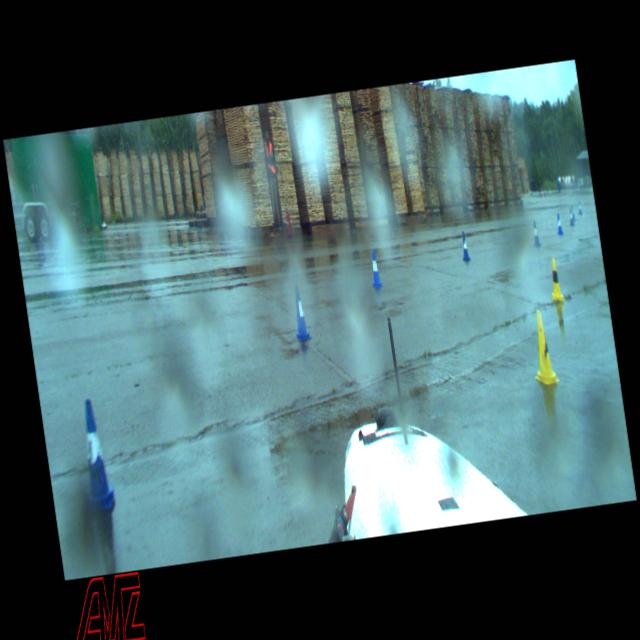blue_cone: (74, 398, 118, 510), (288, 286, 312, 340), (368, 248, 383, 288), (458, 231, 471, 261), (531, 222, 540, 246), (556, 212, 564, 235), (570, 204, 576, 222), (568, 209, 574, 225), (578, 202, 582, 214)
yellow_cone: (526, 310, 560, 386), (546, 258, 564, 302)
